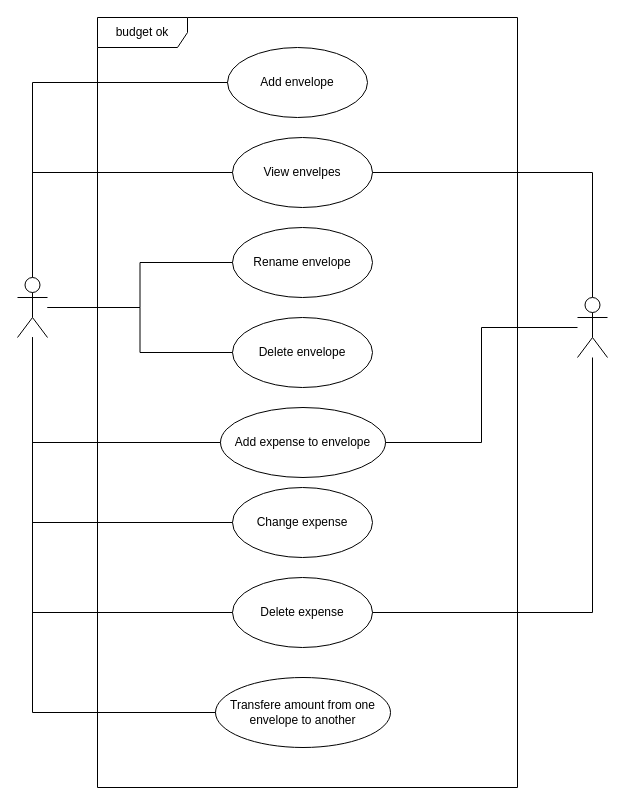
Some shapes in this 634 by 805 pixel diagram are drawn without their labels. The centre of each missing label's shape, as x and y in pixels:
"Bank OK" goes at point 592,327.
"Client" goes at point 32,307.
